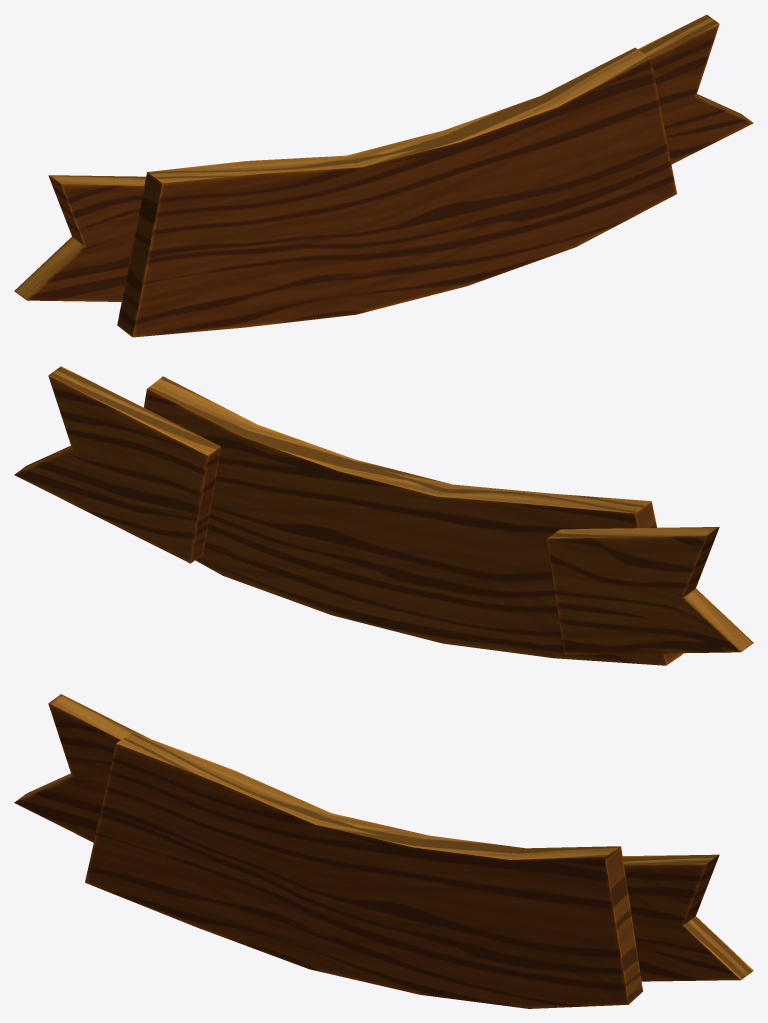
The model's file is sign.glb.
3 renders of one model, top to bottom at view 1: azimuth 30°, elevation 25°; view 2: azimuth 150°, elevation 25°; view 3: azimuth 330°, elevation 25°, orthographic.
Visible parts, largest first — view 1: Null_1; view 2: Null_1; view 3: Null_1.
Part boxes in pixels (x1,y1,x2,y2): Null_1: (14,14,753,337); Null_1: (14,366,753,665); Null_1: (14,694,753,1008).
Bounding box in the file's own units: 2.61 × 0.6351 × 0.1905.
Materials: 1 (1 with a texture image).
